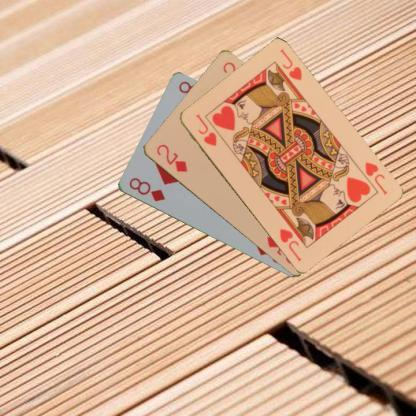2d: (153, 141, 188, 174)
8d: (126, 175, 166, 203)
Jh: (362, 159, 388, 196), (192, 111, 218, 147)
